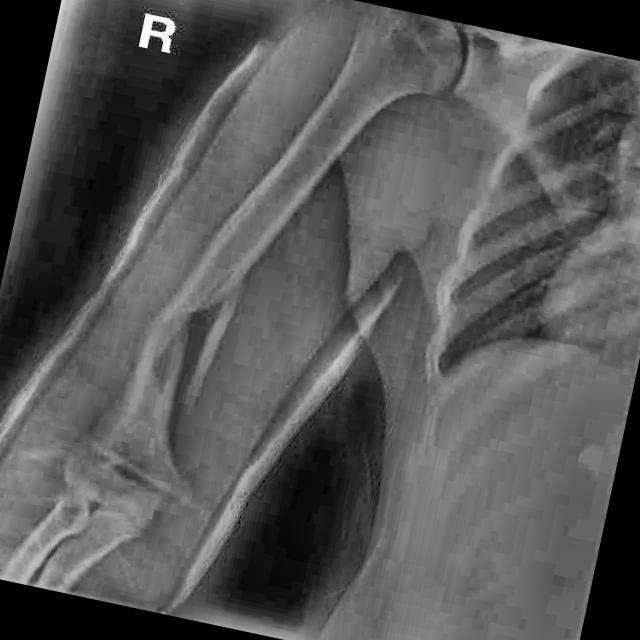humerus: (77, 246, 301, 464)
